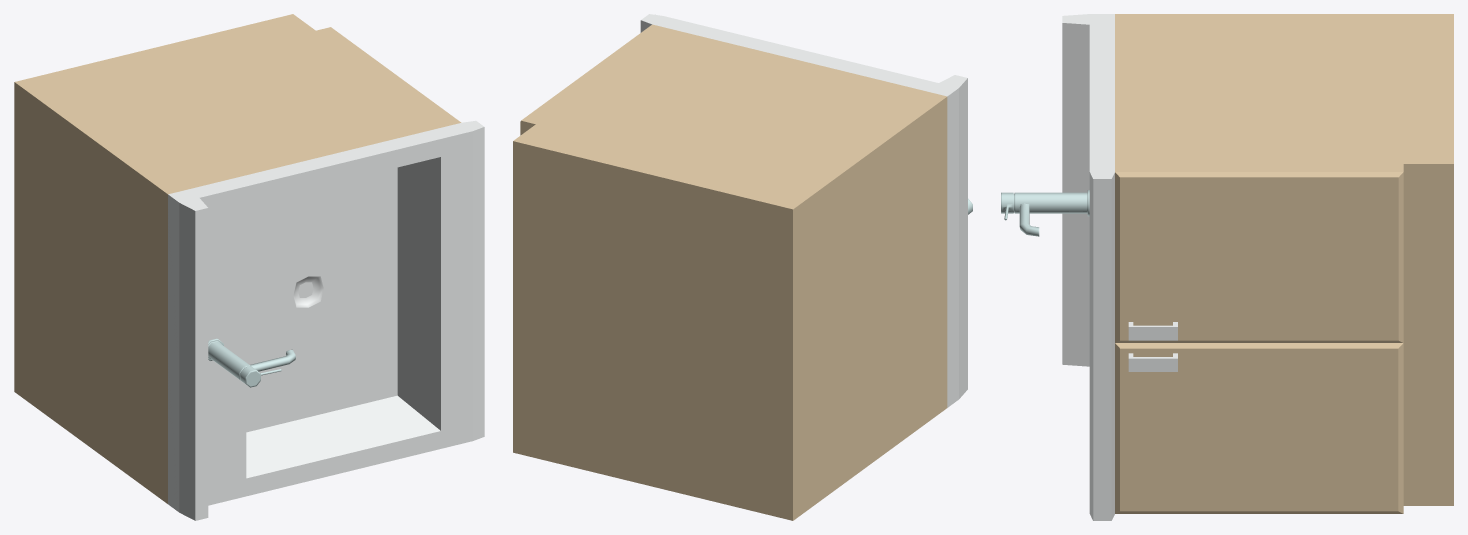
The model's file is kitchenSink.dae.
The picture shows the model from 3 angles, left to right: view 1: azimuth 30°, elevation 25°; view 2: azimuth 150°, elevation 25°; view 3: azimuth 270°, elevation 25°; orthographic projection. The views are drawn at different scales.
Parts seen in each view (by area): view 1: sink_Cube.001; view 2: sink_Cube.001; view 3: sink_Cube.001.
Part boxes in pixels (x1,y1,x2,y2): sink_Cube.001: (14, 14, 484, 520); sink_Cube.001: (513, 14, 972, 520); sink_Cube.001: (1001, 14, 1453, 520).
Size of the model in its own units: 0.7902 by 0.9159 by 0.7634.
